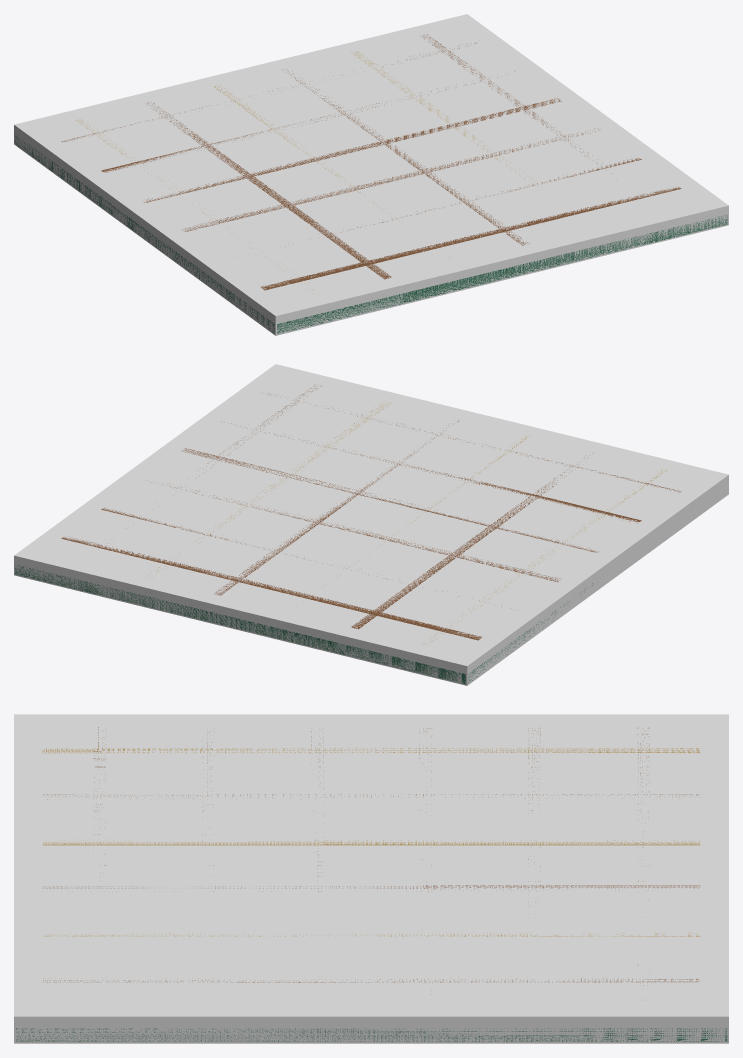
Rendered from ceiling-treatment_luxury.glb.
3 renders of one model, top to bottom at view 1: azimuth 30°, elevation 25°; view 2: azimuth 150°, elevation 25°; view 3: azimuth 270°, elevation 25°, orthographic. The views are drawn at different scales.
Visible parts, largest first — view 1: COL_ceiling-treatment, MESH_FinishBase, MESH_CofferJoint, MESH_FinishJoint.001, MESH_CofferJoint.003, MESH_CofferJoint.002, MESH_FinishJoint.003; view 2: COL_ceiling-treatment, MESH_FinishBase, MESH_CofferJoint.005, MESH_FinishJoint.001, MESH_CofferJoint.002, MESH_FinishJoint.003, MESH_CofferJoint.003, MESH_CofferJoint.001; view 3: COL_ceiling-treatment, MESH_FinishBase, MESH_FinishJoint.002, MESH_FinishJoint, MESH_FinishJoint.003.
Boxes of the visible parts, box(x1,y1,x2,y2) form: COL_ceiling-treatment: box(14, 14, 728, 335); MESH_FinishBase: box(14, 136, 727, 333); MESH_CofferJoint: box(260, 187, 681, 290); MESH_FinishJoint.001: box(146, 102, 391, 279); MESH_CofferJoint.003: box(143, 98, 561, 202); MESH_CofferJoint.002: box(182, 128, 598, 231); MESH_FinishJoint.003: box(282, 69, 527, 245); COL_ceiling-treatment: box(14, 364, 728, 685); MESH_FinishBase: box(15, 565, 593, 684); MESH_CofferJoint.005: box(61, 536, 481, 640); MESH_FinishJoint.001: box(351, 452, 593, 629); MESH_CofferJoint.002: box(182, 448, 598, 552); MESH_FinishJoint.003: box(214, 420, 458, 595); MESH_CofferJoint.003: box(150, 482, 559, 582); MESH_CofferJoint.001: box(224, 422, 641, 523); COL_ceiling-treatment: box(14, 714, 728, 1043); MESH_FinishBase: box(16, 1028, 727, 1041); MESH_FinishJoint.002: box(43, 840, 699, 845); MESH_FinishJoint: box(42, 748, 699, 753); MESH_FinishJoint.003: box(43, 885, 699, 890).
Size of the model in its own units: 2.4 by 0.1 by 2.4.
